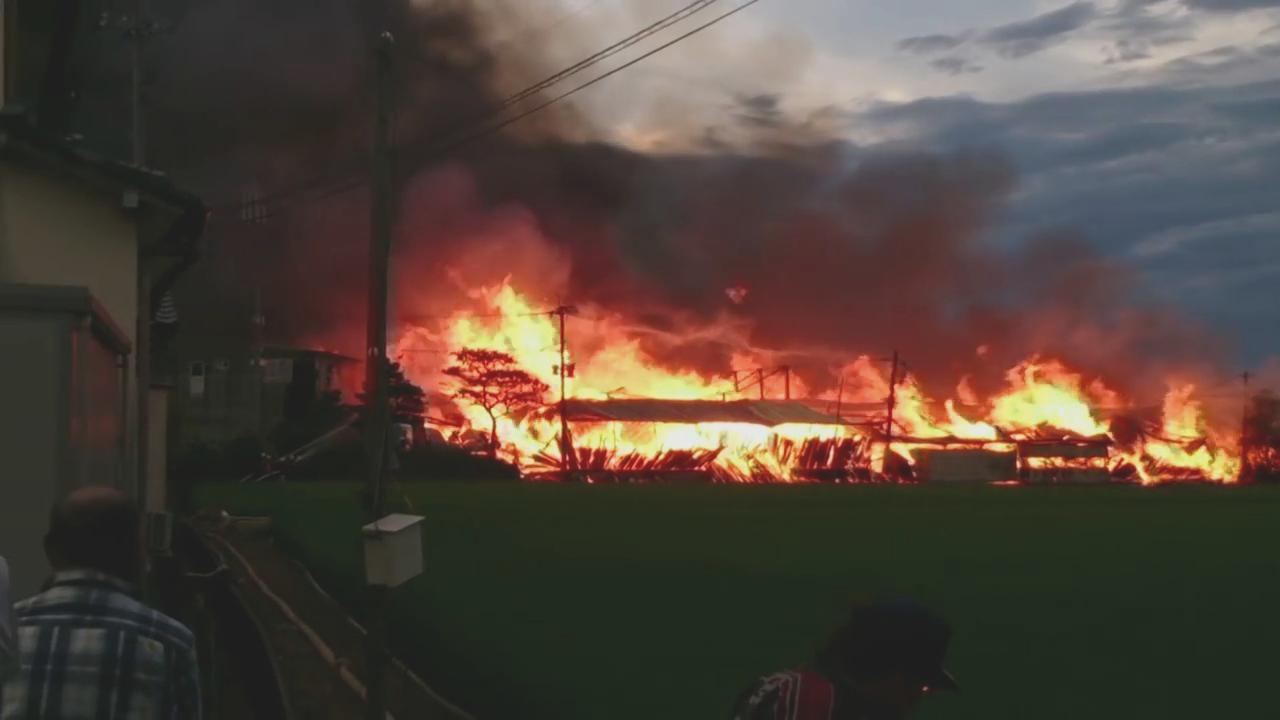Fire: (424, 278, 1277, 483)
